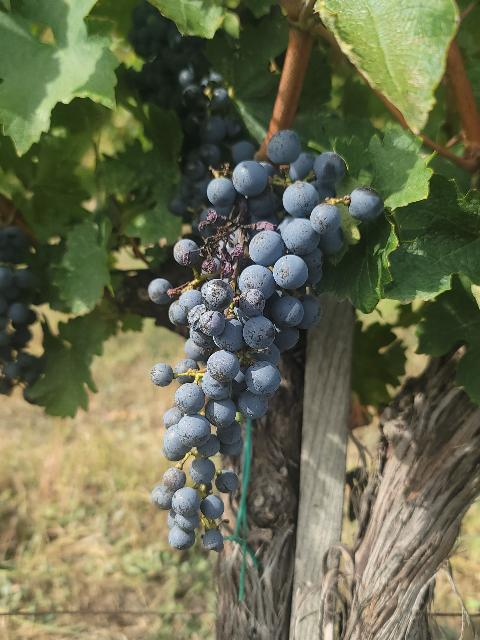grapes: (149, 130, 384, 551), (126, 2, 245, 215)
